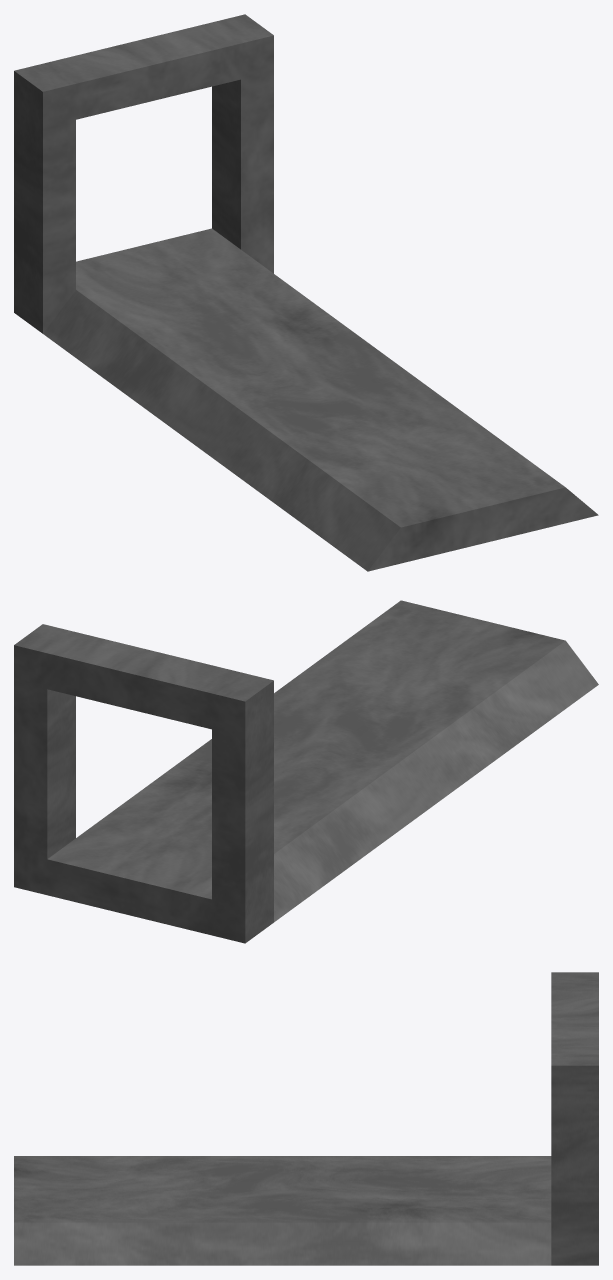
File: Gate.fbx
3 renders of one model, top to bottom at view 1: azimuth 30°, elevation 25°; view 2: azimuth 150°, elevation 25°; view 3: azimuth 270°, elevation 25°, orthographic. The views are drawn at different scales.
Visible parts, largest first — view 1: Entree gate; view 2: Entree gate; view 3: Entree gate.
Part boxes in pixels (x1=…): Entree gate: x1=14, y1=14, x2=598, y2=571; Entree gate: x1=14, y1=600, x2=598, y2=943; Entree gate: x1=14, y1=972, x2=598, y2=1265.
Size of the model in its own units: 732 by 732 by 1939.
